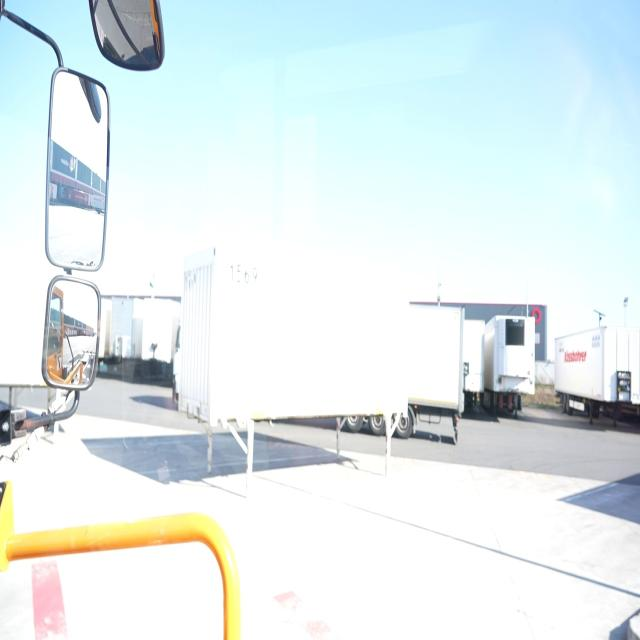Code: (227, 259, 262, 287)
